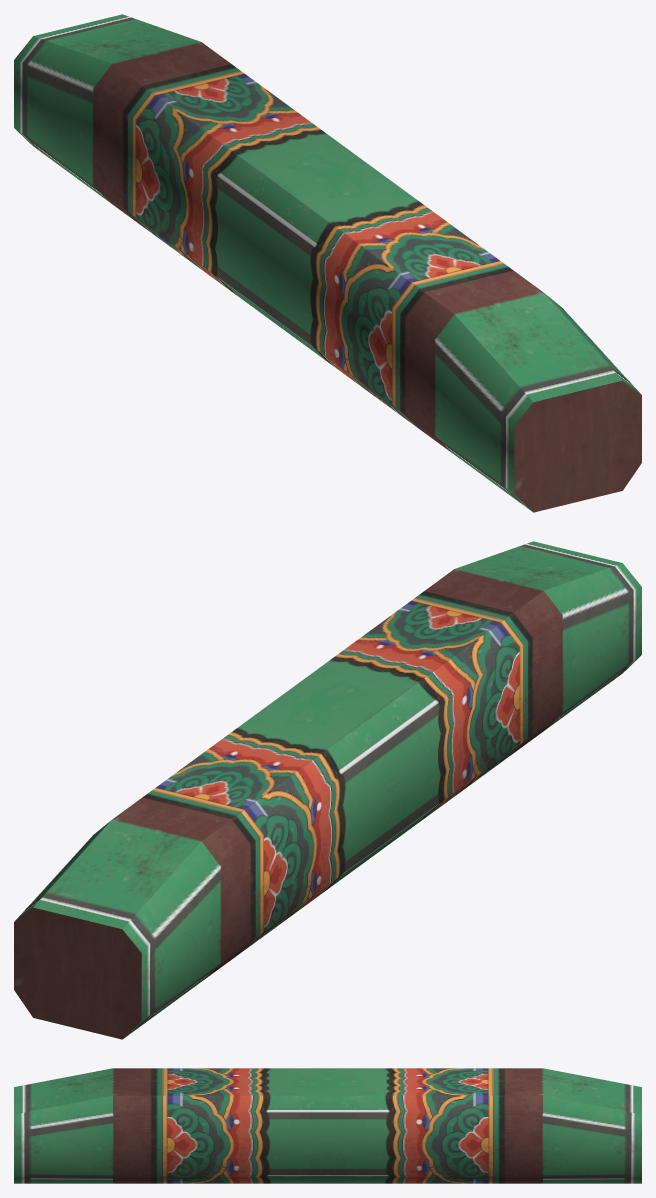
Rendered from SM_Jungbo01f.fbx.
The picture shows the model from 3 angles, top to bottom: view 1: azimuth 30°, elevation 25°; view 2: azimuth 150°, elevation 25°; view 3: azimuth 270°, elevation 25°; orthographic projection. The views are drawn at different scales.
Parts seen in each view (by area): view 1: SM_Jungbo01f; view 2: SM_Jungbo01f; view 3: SM_Jungbo01f.
Part boxes in pixels (box(x1,y1,x2,y2)): SM_Jungbo01f: box(14, 14, 641, 512); SM_Jungbo01f: box(14, 541, 641, 1039); SM_Jungbo01f: box(14, 1068, 641, 1183).
Bounding box in the file's own units: 28 × 190 × 29.43.
1 material, 1 textured.
